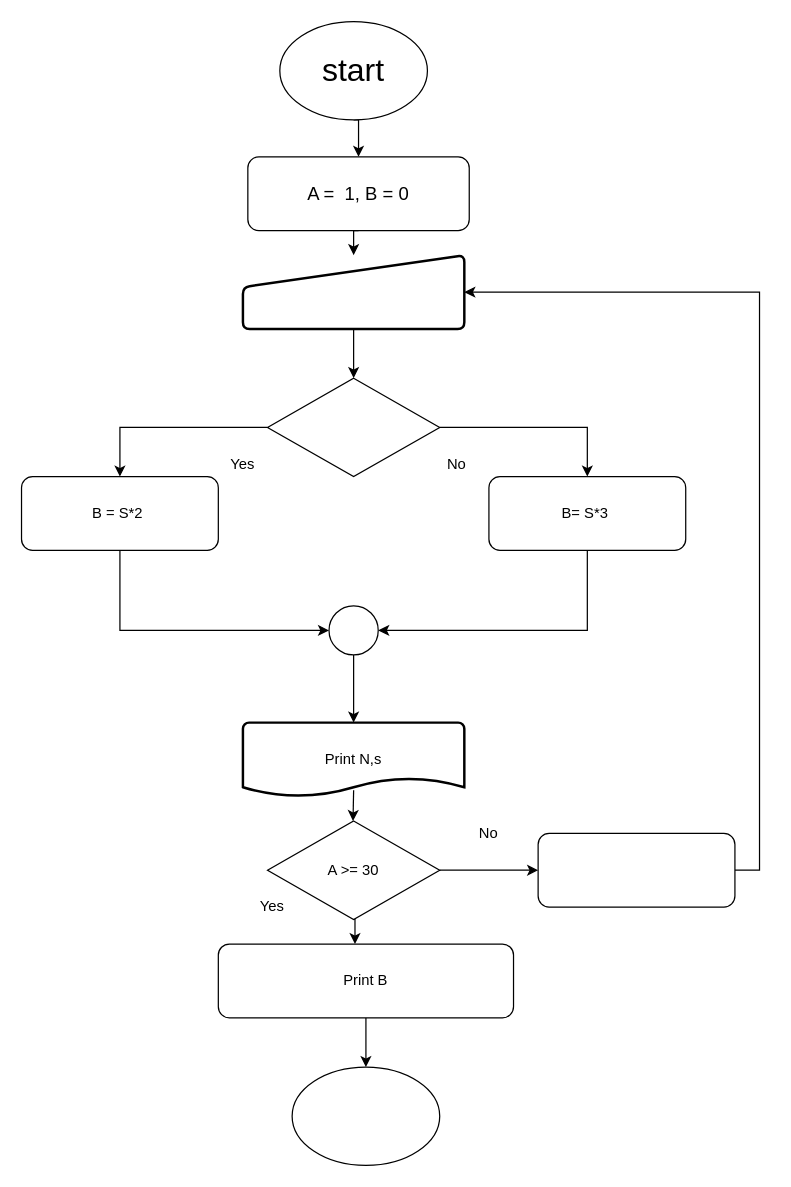
Image size: 791x1187. Some labels were removed from this diagram. The shapes that lost their labels are listed below. From the top down, each one's centre as x and y in pixels, then its label:
(x=353, y=291): input N=Name S= Salary
(x=353, y=427): S >=50,000
(x=636, y=869): A = A+1
(x=365, y=1115): End
